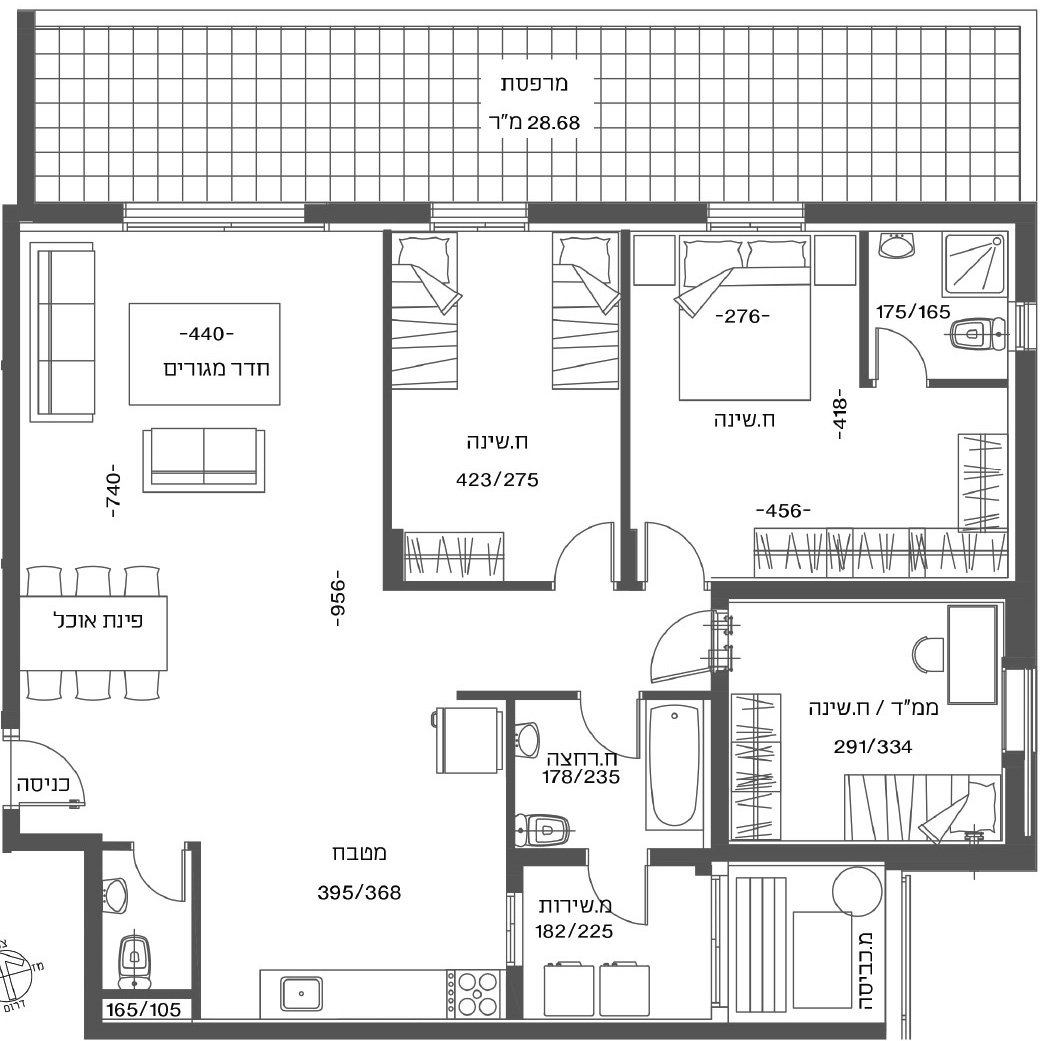wall: (83, 1023, 886, 1040), (2, 204, 20, 728), (1014, 349, 1037, 670), (710, 581, 1035, 599), (802, 200, 1037, 224), (526, 201, 706, 226), (17, 11, 36, 222), (83, 833, 101, 1039), (710, 671, 729, 863), (383, 229, 393, 591), (619, 229, 629, 591), (304, 201, 430, 226), (709, 844, 884, 862), (13, 201, 122, 224), (1014, 203, 1037, 303), (191, 840, 201, 1019), (859, 229, 870, 387), (3, 834, 102, 851), (383, 581, 552, 590), (505, 848, 585, 866), (456, 691, 578, 700), (506, 966, 524, 1020), (642, 691, 730, 700), (506, 848, 523, 893), (929, 379, 1007, 388), (3, 809, 20, 850)
